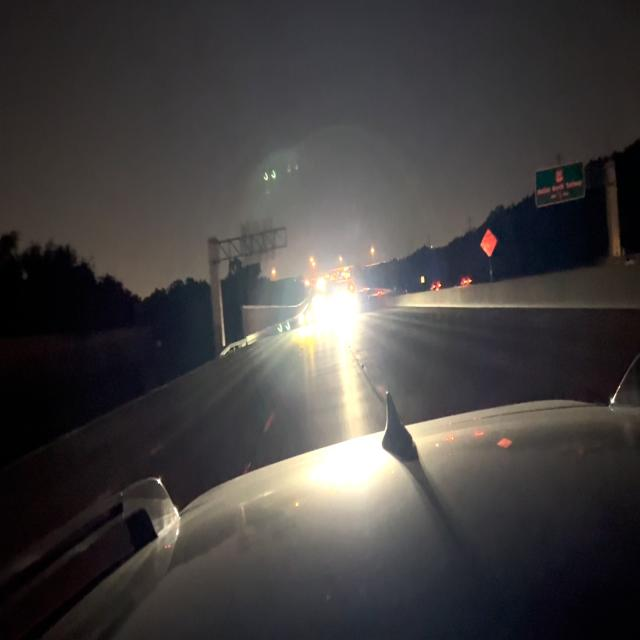back-of-sign: (239, 218, 276, 264)
